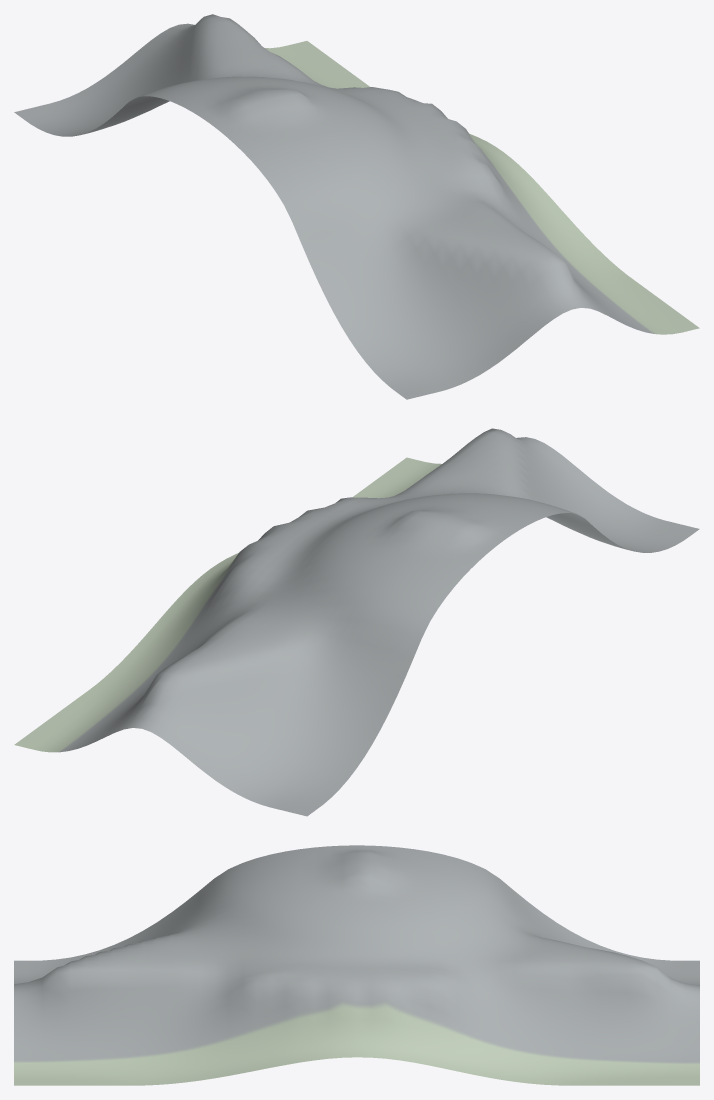
The model's file is blanket.glb.
The picture shows the model from 3 angles, top to bottom: view 1: azimuth 30°, elevation 25°; view 2: azimuth 150°, elevation 25°; view 3: azimuth 270°, elevation 25°; orthographic projection. The views are drawn at different scales.
Visible parts, largest first — view 1: KiabouBlanket; view 2: KiabouBlanket; view 3: KiabouBlanket.
Part boxes in pixels (left/top/right/bottom): KiabouBlanket: left=14, top=14, right=699, bottom=399; KiabouBlanket: left=14, top=428, right=699, bottom=816; KiabouBlanket: left=14, top=845, right=699, bottom=1085.
Bounding box in the file's own units: 0.125 × 0.0578 × 0.29.
1 material, 1 textured.
